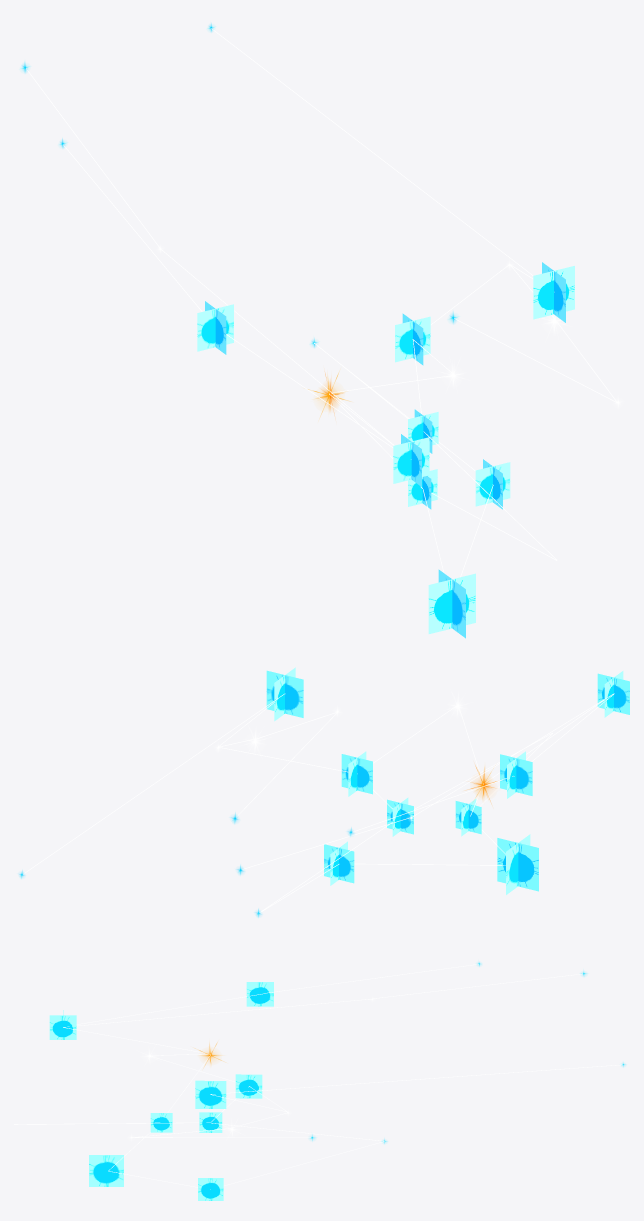
File: orion.glb
3 views of the same model, one above another, from view 1: azimuth 30°, elevation 25°; view 2: azimuth 150°, elevation 25°; view 3: azimuth 270°, elevation 25° (orthographic). The views are drawn at different scales.
Visible parts, largest first — view 1: line, 1) Orion.019, 1) Orion.021, 1) Orion.025, 1) Orion.010, 1) Orion.012, 1) Orion.007, 1) Orion.017, 1) Orion.018; view 2: line, 1) Orion.019, 1) Orion.021, 1) Orion.025, 1) Orion.010, 1) Orion.012, 1) Orion.007, 1) Orion.017, 1) Orion.018; view 3: line, 1) Orion.019, 1) Orion.021, 1) Orion.010, 1) Orion.025, 1) Orion.012, 1) Orion.007, 1) Orion.017, 1) Orion.018.
Boxes of the visible parts, x1,y1,x2,y2 form: line: (26,28,617,577); 1) Orion.019: (428,569,475,638); 1) Orion.021: (533,262,574,322); 1) Orion.025: (197,301,233,354); 1) Orion.010: (393,434,429,486); 1) Orion.012: (395,313,430,365); 1) Orion.007: (475,459,510,509); 1) Orion.017: (408,409,438,453); 1) Orion.018: (408,469,437,509); line: (23,693,614,913); 1) Orion.019: (497,834,538,894); 1) Orion.021: (266,667,303,721); 1) Orion.025: (500,751,532,798); 1) Orion.010: (597,671,629,717); 1) Orion.012: (341,751,372,796); 1) Orion.007: (324,841,354,885); 1) Orion.017: (387,797,413,836); 1) Orion.018: (455,799,481,836); line: (14,964,622,1189); 1) Orion.019: (89,1155,123,1186); 1) Orion.021: (195,1080,226,1108); 1) Orion.010: (49,1010,76,1039); 1) Orion.025: (246,982,273,1006); 1) Orion.012: (235,1074,262,1098); 1) Orion.007: (198,1178,223,1200); 1) Orion.017: (199,1112,222,1132); 1) Orion.018: (150,1113,172,1132).
Bounding box in the file's own units: 4 × 3.34 × 9.19.
6 materials, 5 textured.
